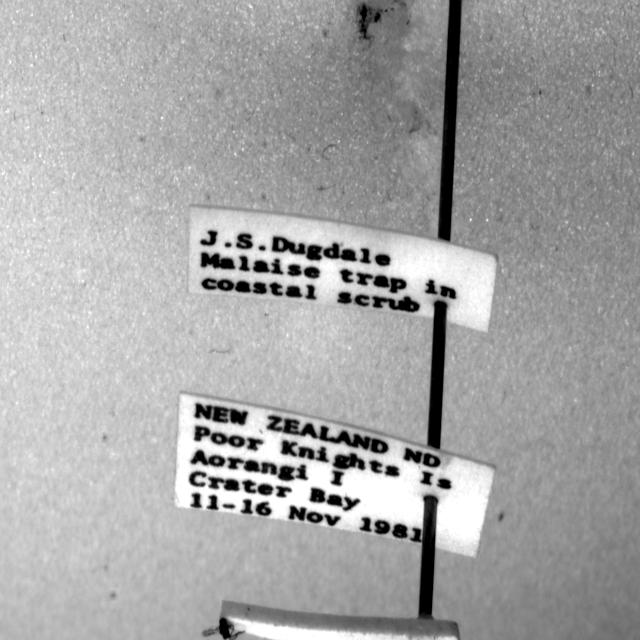typed_label: (175, 394, 495, 557), (189, 206, 496, 332)
